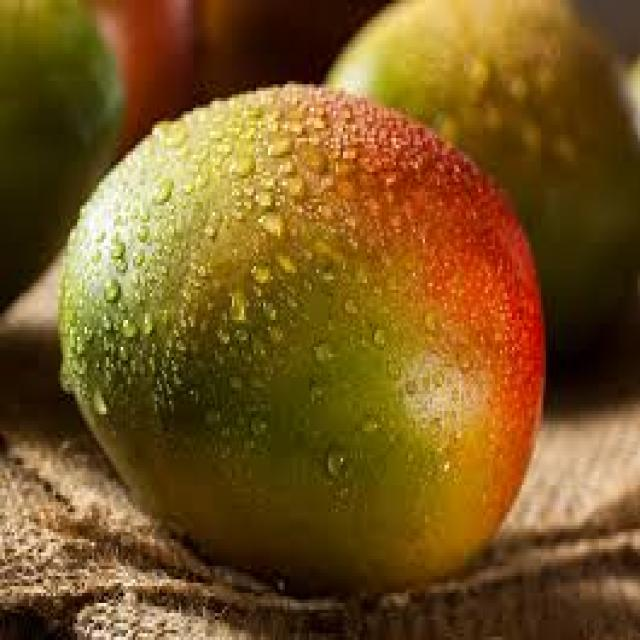mango: (58, 84, 543, 600)
